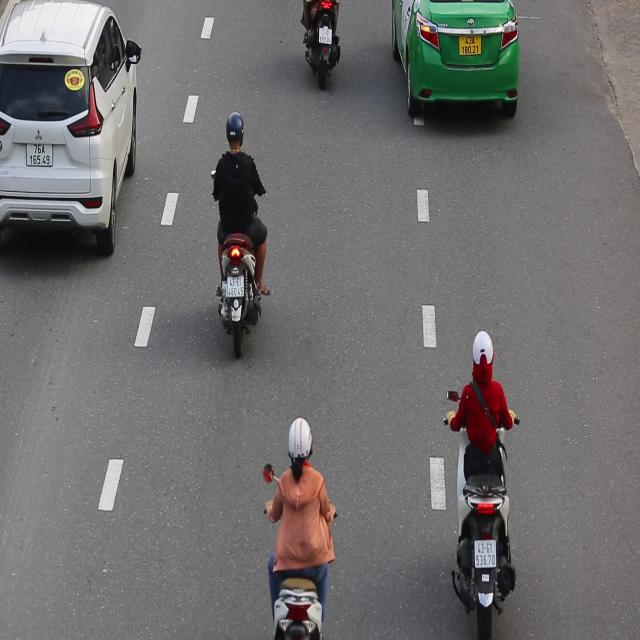motorbike: (434, 329, 522, 640), (252, 409, 340, 640), (202, 101, 274, 359)
